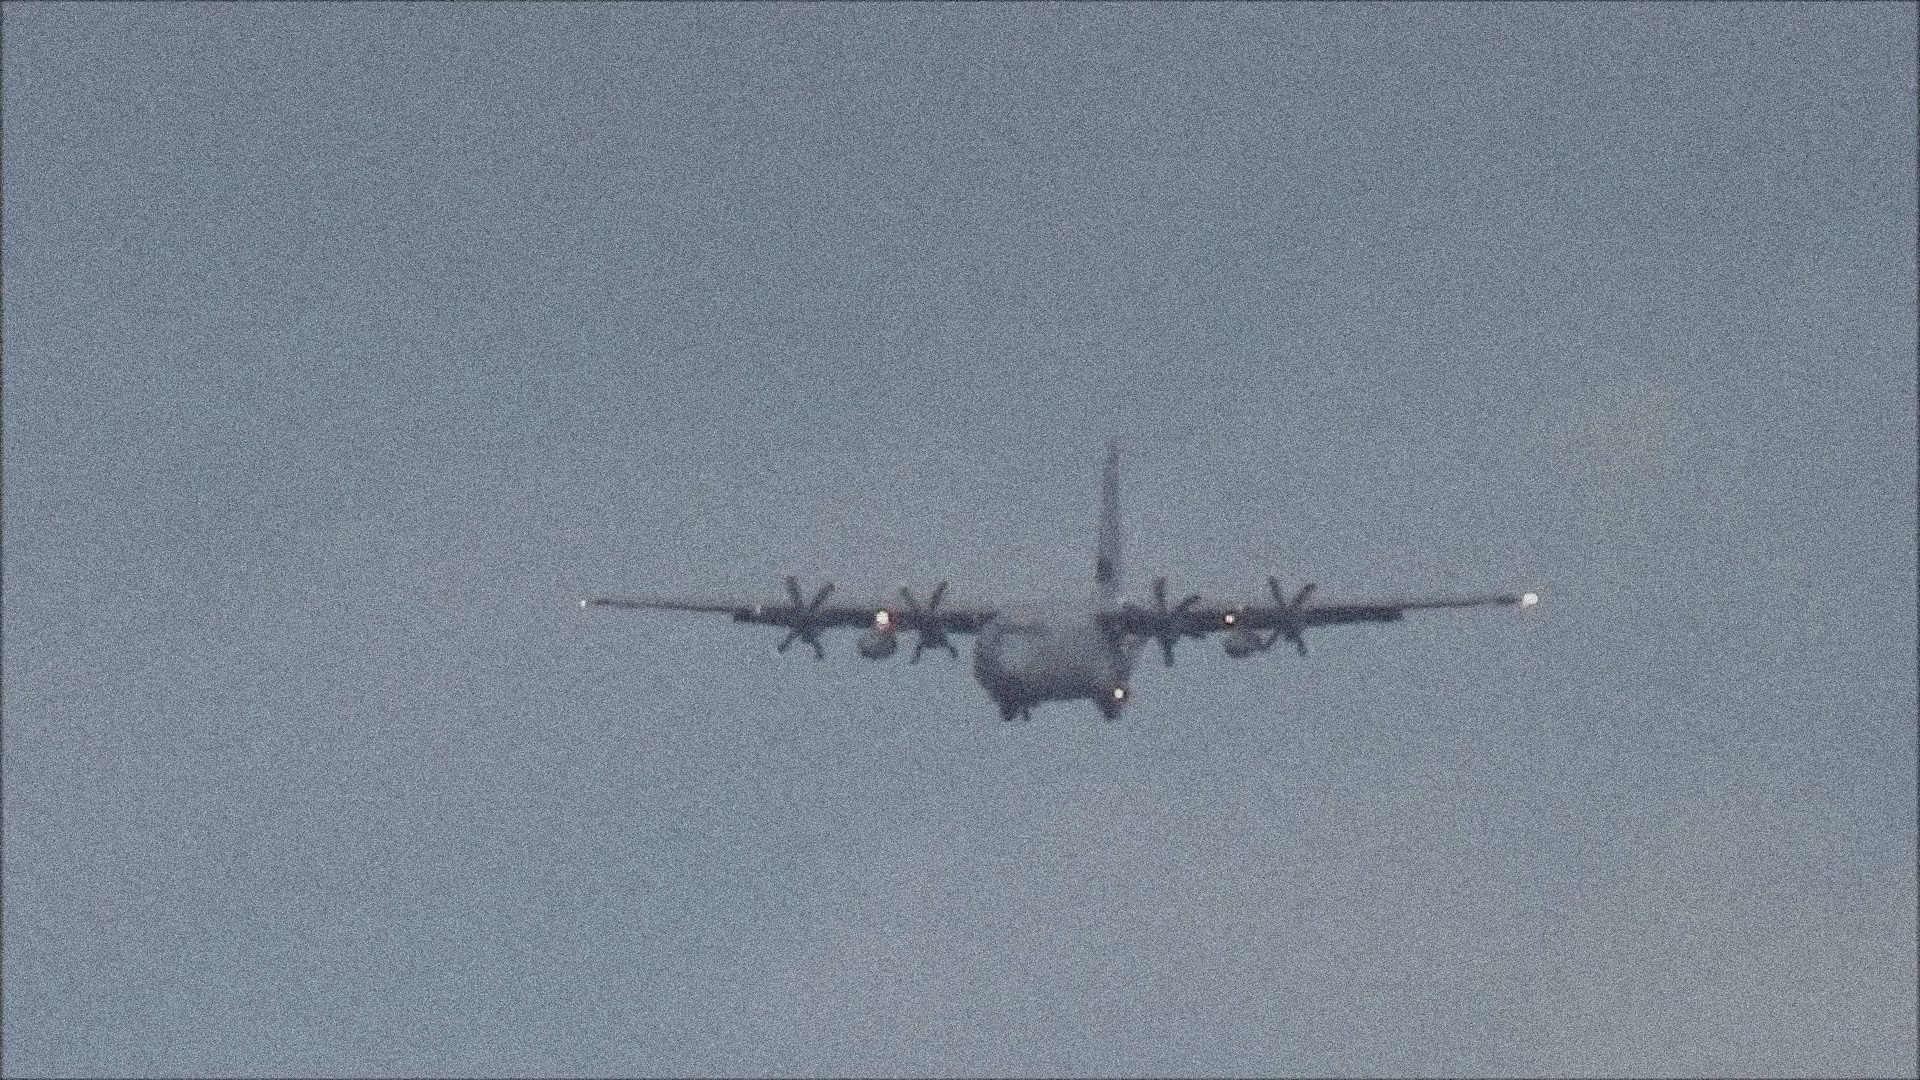Airplane: (582, 448, 1545, 720)
